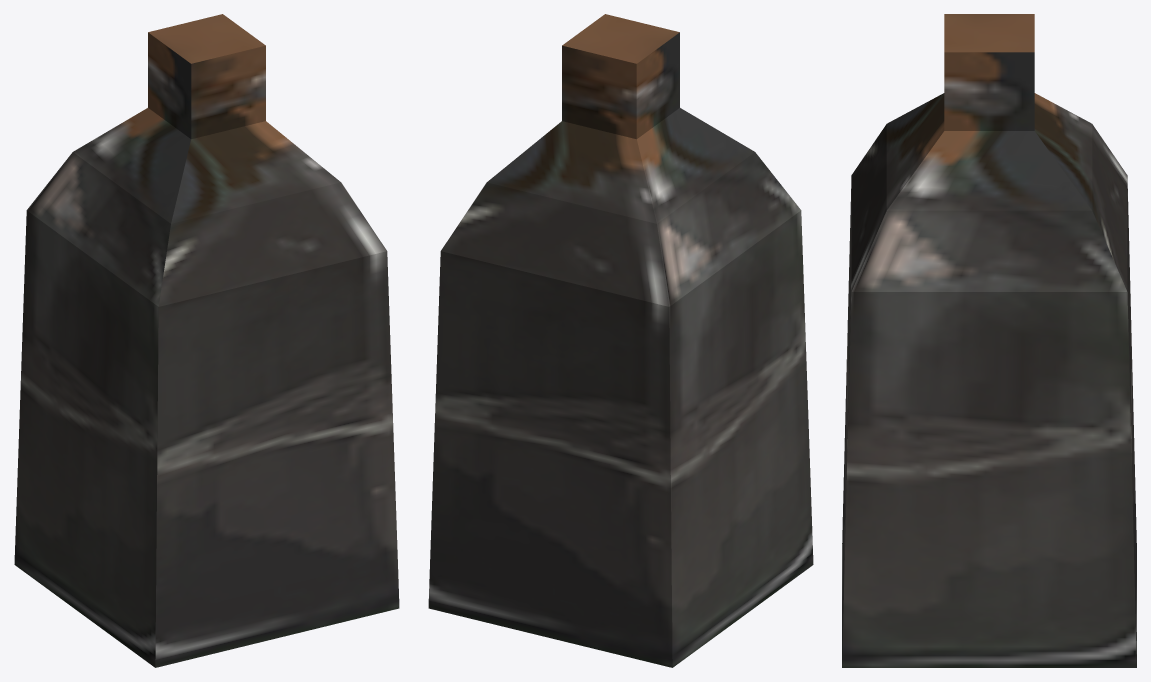
The model's file is bottle_04.FBX.
The picture shows the model from 3 angles, left to right: view 1: azimuth 30°, elevation 25°; view 2: azimuth 150°, elevation 25°; view 3: azimuth 270°, elevation 25°; orthographic projection. The views are drawn at different scales.
Parts seen in each view (by area): view 1: bottle_04; view 2: bottle_04; view 3: bottle_04.
Boxes of the visible parts, x1,y1,x2,y2 form: bottle_04: (14, 14, 399, 667); bottle_04: (428, 14, 813, 667); bottle_04: (842, 14, 1136, 667).
Size of the model in its own units: 0.2317 by 0.4968 by 0.2317.
